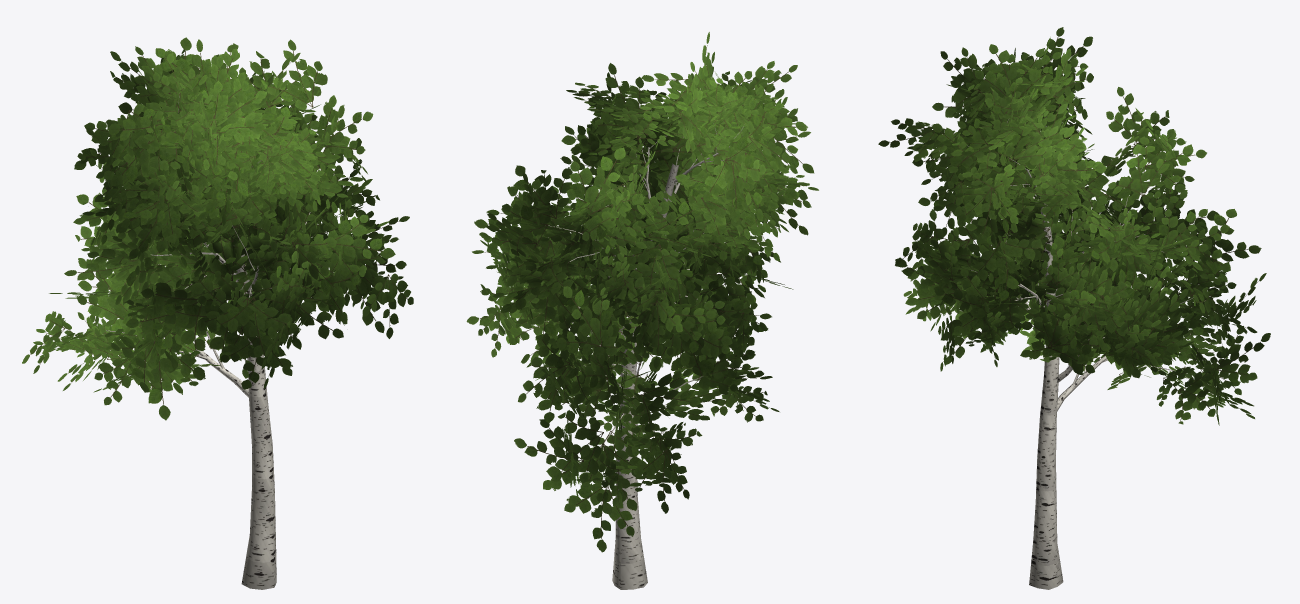
The model's file is tree_birch.glb.
The picture shows the model from 3 angles, left to right: view 1: azimuth 30°, elevation 25°; view 2: azimuth 150°, elevation 25°; view 3: azimuth 270°, elevation 25°; orthographic projection. The views are drawn at different scales.
Parts seen in each view (by area): view 1: plant; view 2: plant; view 3: plant.
Boxes of the visible parts, x1,y1,x2,y2 form: plant: (22, 37, 413, 589); plant: (466, 32, 818, 589); plant: (878, 27, 1270, 589).
Size of the model in its own units: 4.43 by 7.18 by 5.18.
2 materials, 2 textured.
